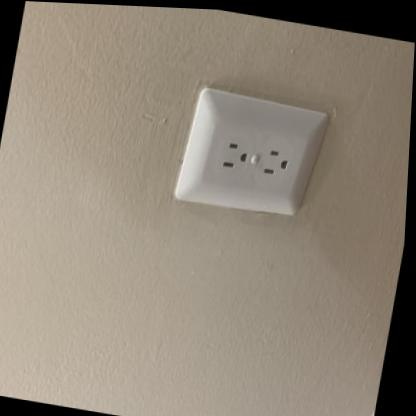OUTLET: (169, 80, 334, 225)
